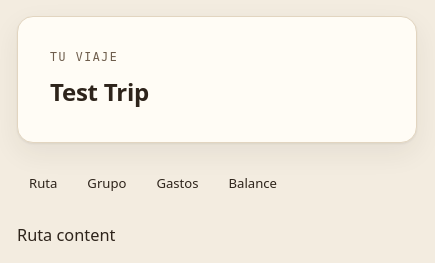
Test: TripShell › switches to Balance tab when clicked
Step 1. Click the button "Balance" → x=253, y=183, box [216,161,289,205]
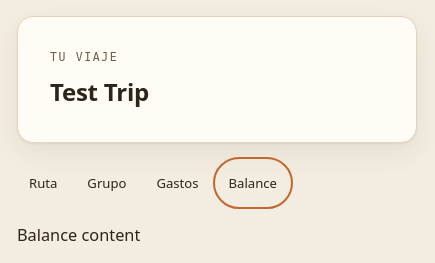
Result: the text "Ruta content" is gone
Result: the text "Balance content" is shown at [17,224,140,246]
